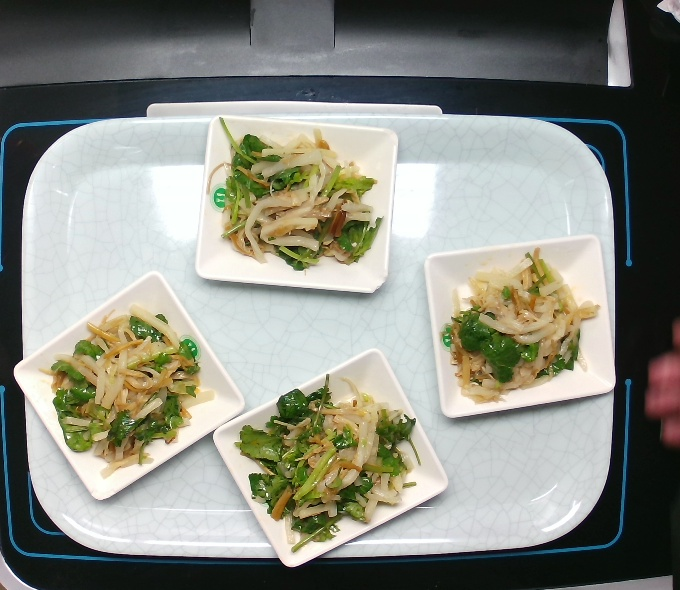wcq-LiangBanJinZhenGu: (240, 384, 433, 545), (43, 307, 205, 469), (443, 248, 602, 402), (214, 130, 385, 271)
